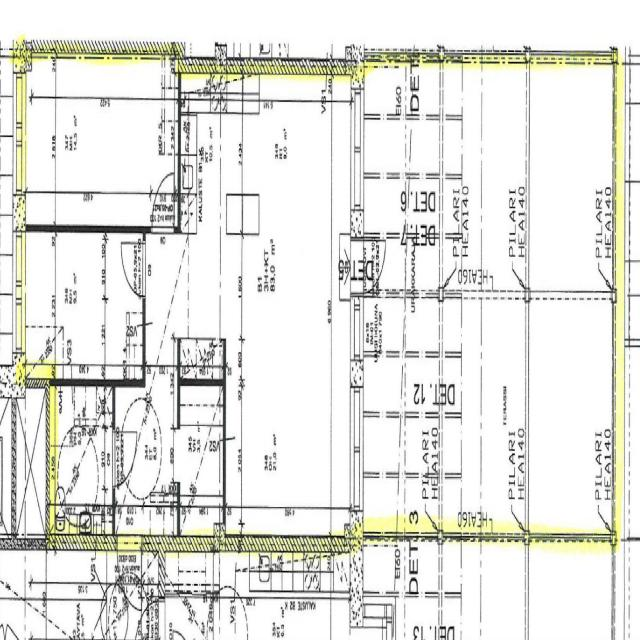door: (351, 240, 385, 293), (118, 536, 142, 610), (152, 171, 174, 232), (112, 432, 136, 485), (121, 243, 145, 296)
